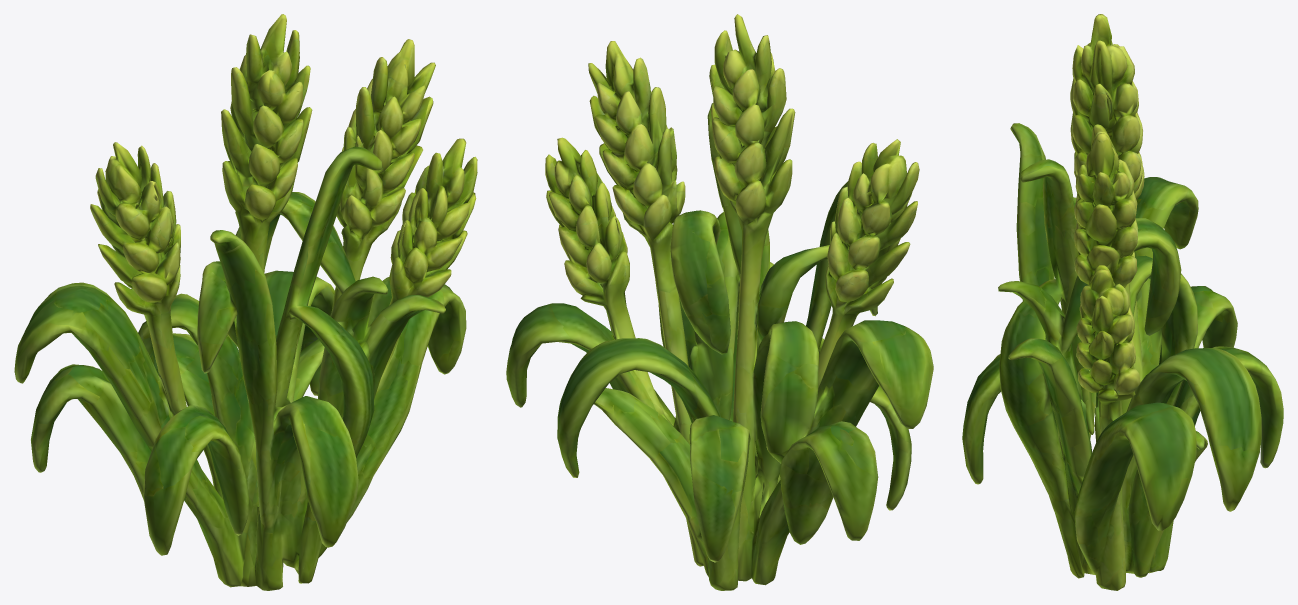
The model's file is wheat-growing.glb.
3 views of the same model, side by side, from view 1: azimuth 30°, elevation 25°; view 2: azimuth 150°, elevation 25°; view 3: azimuth 270°, elevation 25° (orthographic). The views are drawn at different scales.
Bounding box in the file's own units: 1.53 × 1.9 × 0.9878.
1 material, 1 textured.
